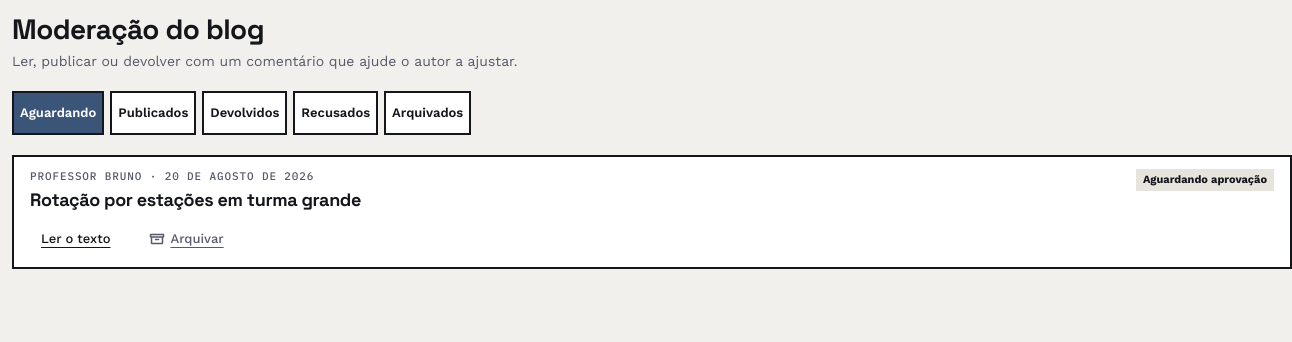
Test: PaginaModeracao › mostra o erro da API ao arquivar
Click the button "Publicados".
click(153, 113)  # box [110,91,196,135]
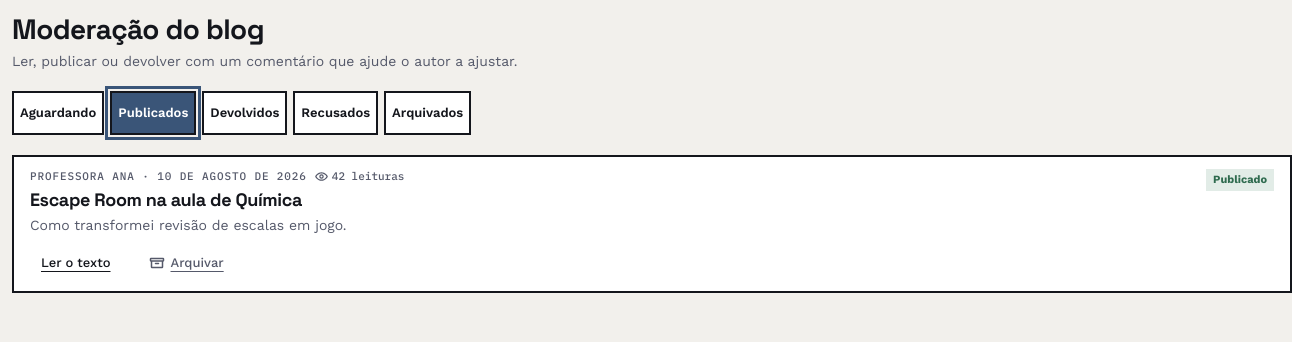
Check: the heading "Escape Room na aula de Química" is shown, box [30,188,302,211]
Click the button "Arquivar".
click(186, 264)  # box [138,248,235,280]
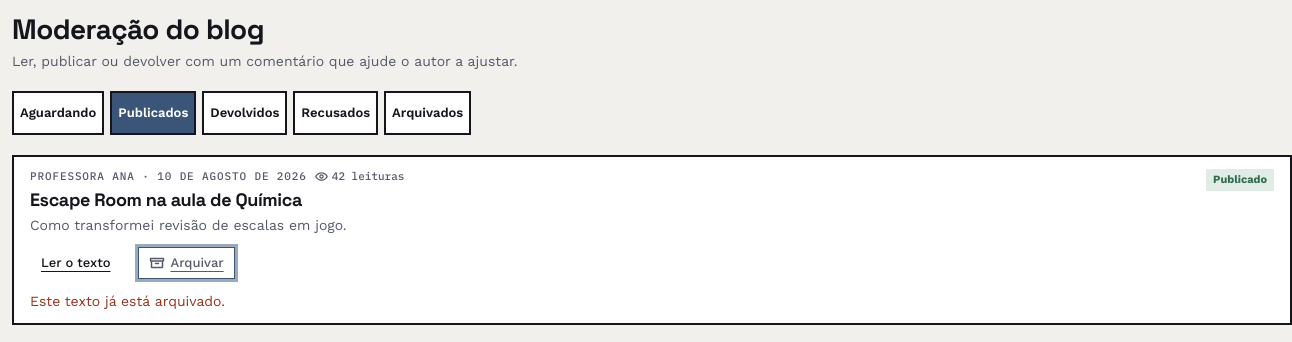
Check: the text "Este texto já está arquivado." is shown, box [30,294,225,310]
